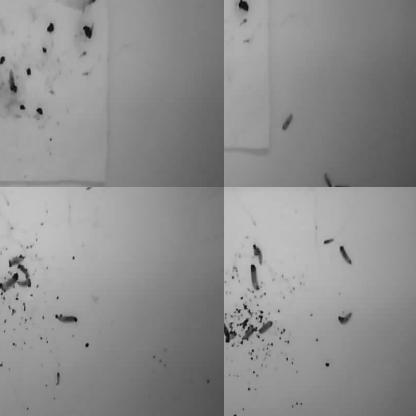PtecticusTenebrifer: (0, 271, 18, 290), (339, 245, 352, 266), (250, 265, 259, 294), (282, 112, 294, 133), (7, 71, 18, 93), (58, 314, 80, 325), (337, 311, 353, 325), (259, 319, 273, 335), (253, 244, 263, 265), (321, 172, 332, 187), (0, 128, 8, 146), (224, 51, 231, 71), (224, 313, 231, 332), (96, 187, 114, 194), (88, 0, 97, 11), (78, 187, 94, 193), (224, 289, 231, 302), (7, 187, 23, 192), (224, 27, 231, 38), (334, 183, 353, 187), (42, 187, 51, 195), (142, 187, 152, 193), (224, 187, 233, 193), (0, 0, 10, 5), (224, 187, 229, 196)
